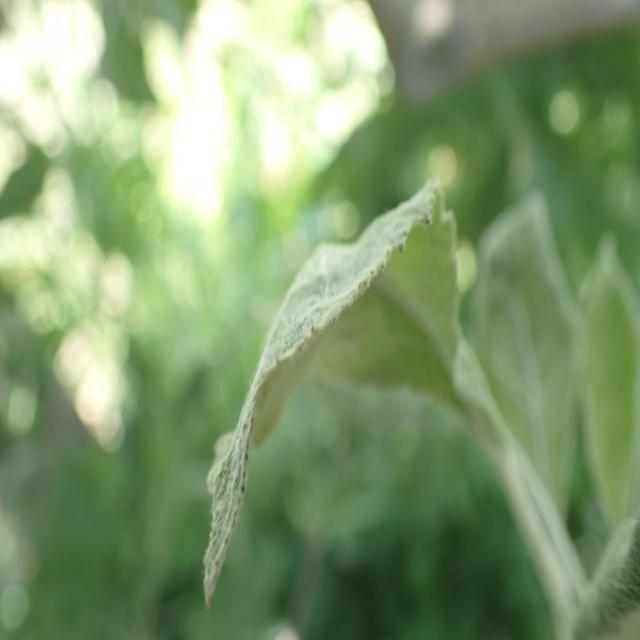Powdery_mildew: (188, 183, 518, 630), (469, 188, 590, 524)
